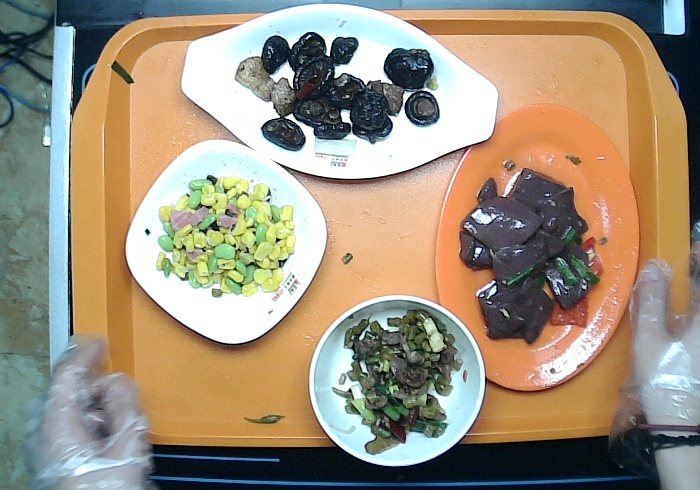NLDX-Bai_Se_Xiao_Fang_Die: (123, 132, 330, 345)
NLDX-Fan_Wan: (305, 291, 493, 470)
NLDX-Ju_Se_Pan: (433, 101, 645, 394)
NLDX-Yu_Pan: (179, 1, 510, 184)
